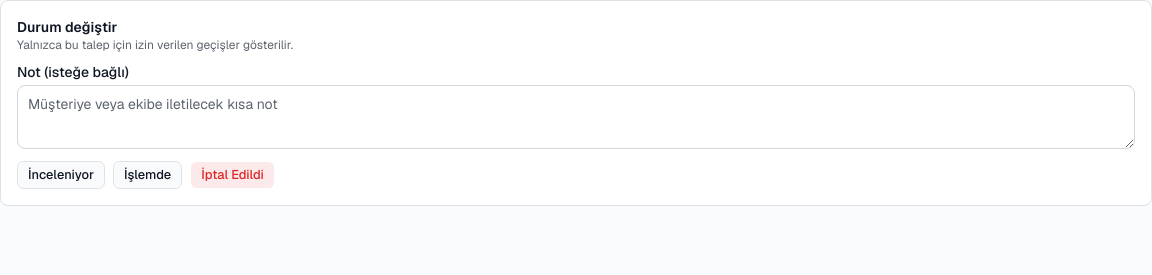
Scenario: AdminStatusActions › on 409 shows 'kayıt güncel değil' and reloads
Click the button "İşlemde" at (148, 175), box [113,161,182,189]
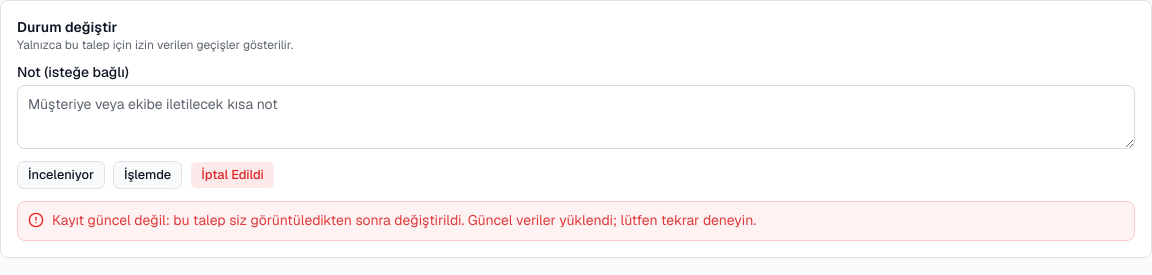
Check: the text "Kayıt güncel değil" is shown, box [52,211,756,229]
